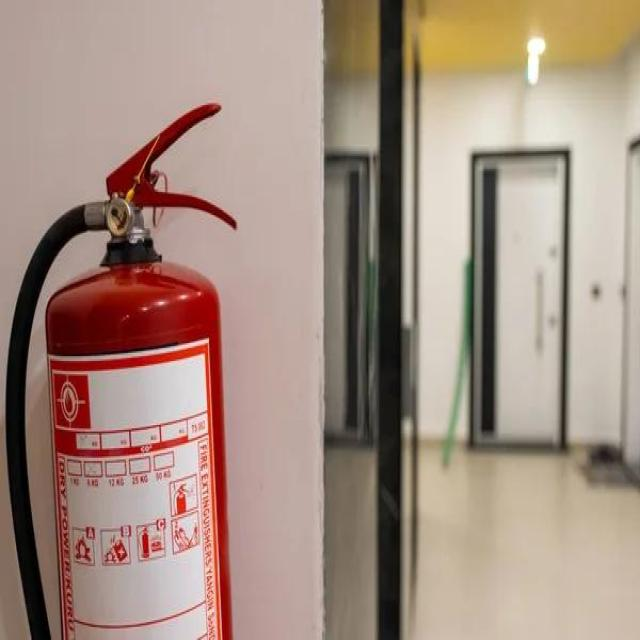fire_extinguisher: (1, 92, 245, 638)
